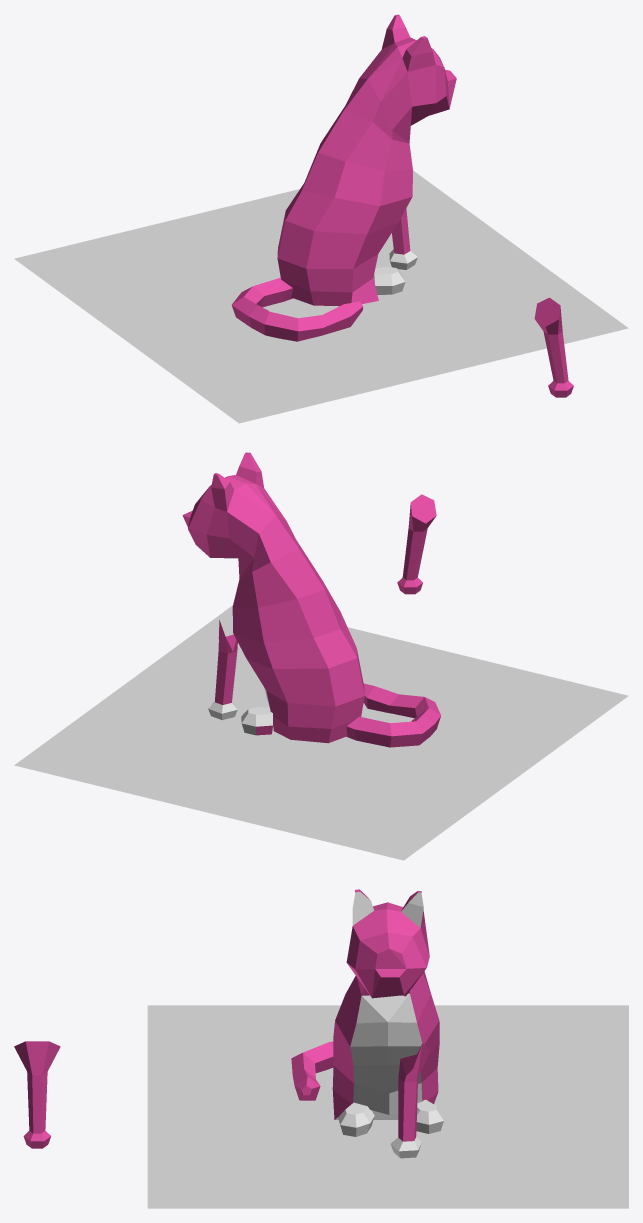
File: Cat.fbx
3 renders of one model, top to bottom at view 1: azimuth 30°, elevation 25°; view 2: azimuth 150°, elevation 25°; view 3: azimuth 270°, elevation 25°, orthographic. The views are drawn at different scales.
Parts seen in each view (by area): view 1: Plane.001, Cube; view 2: Plane.001, Cube; view 3: Plane.001, Cube.
Boxes of the visible parts, x1,y1,x2,y2 form: Plane.001: [14, 170, 628, 423]; Cube: [231, 14, 573, 397]; Plane.001: [14, 605, 628, 860]; Cube: [182, 452, 440, 747]; Plane.001: [147, 1005, 628, 1208]; Cube: [14, 889, 443, 1158].
Size of the model in its own units: 1121 by 686 by 1432.
